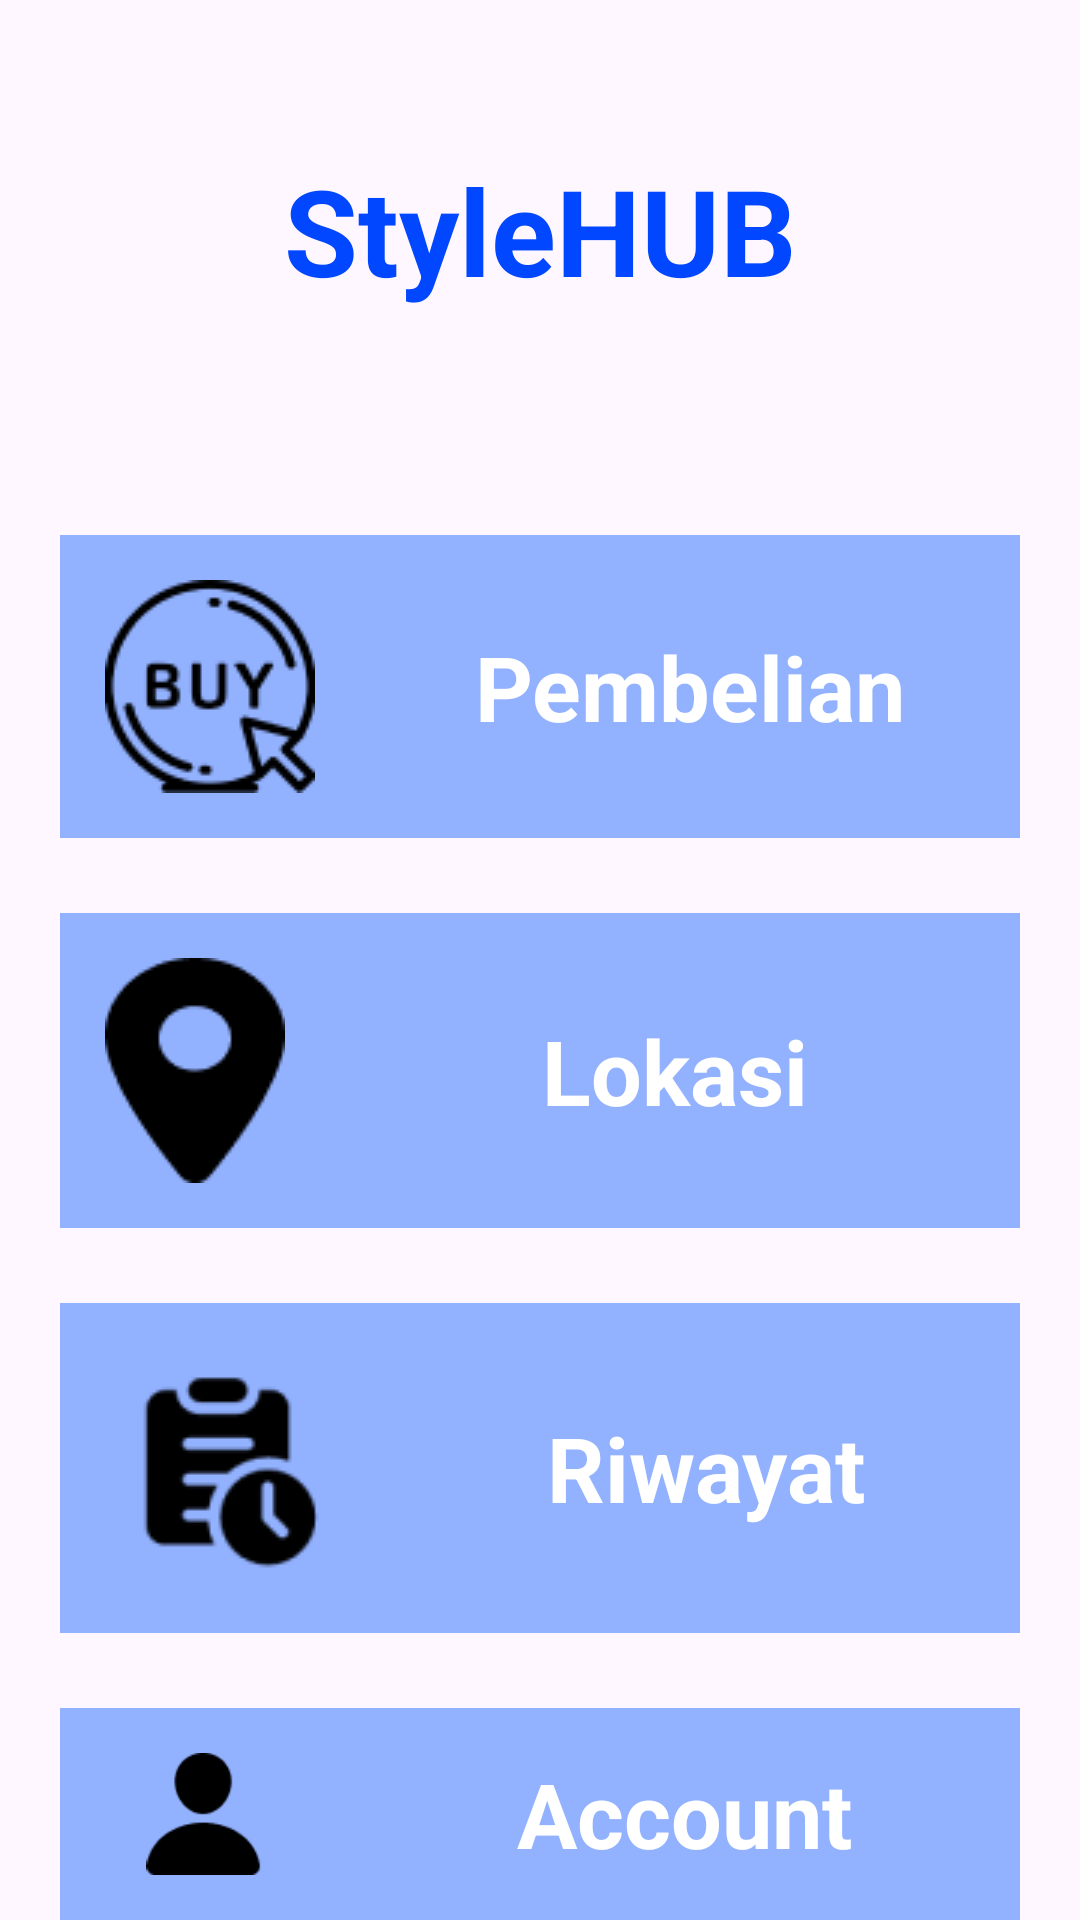

Icons on this 1080w x 1920h Android screen, each with the point to tap as [x,y]:
history: [225,1468]
location: [195,1070]
